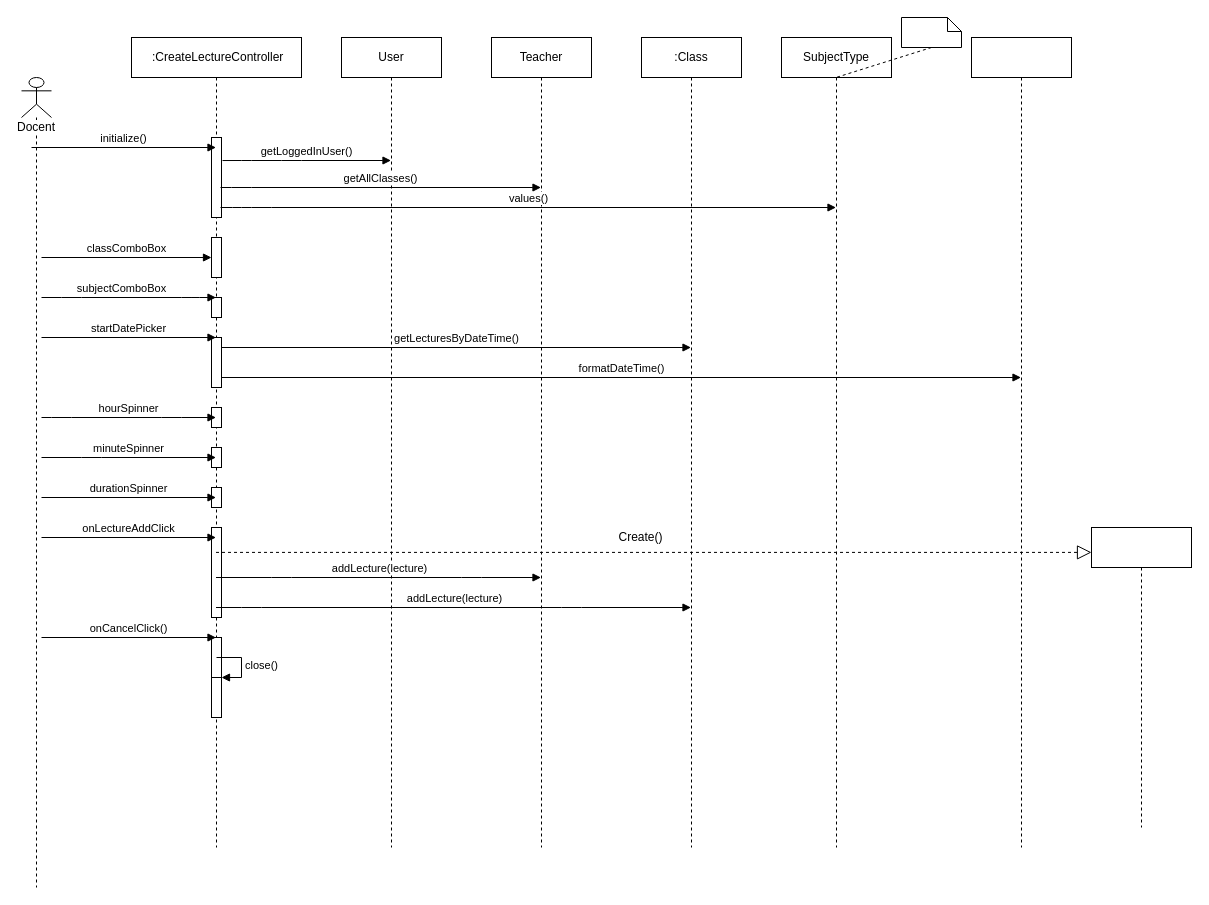
Image size: 1209x905. Some labels were removed from this diagram. The shapes that lost their labels are listed below. From the top down, each one's box as (x1, y1, x2, y2) in pixels, then its label:
(900, 16, 962, 48): Enum
(970, 36, 1072, 848): Utils
(1090, 526, 1192, 828): lecture:Lecture
